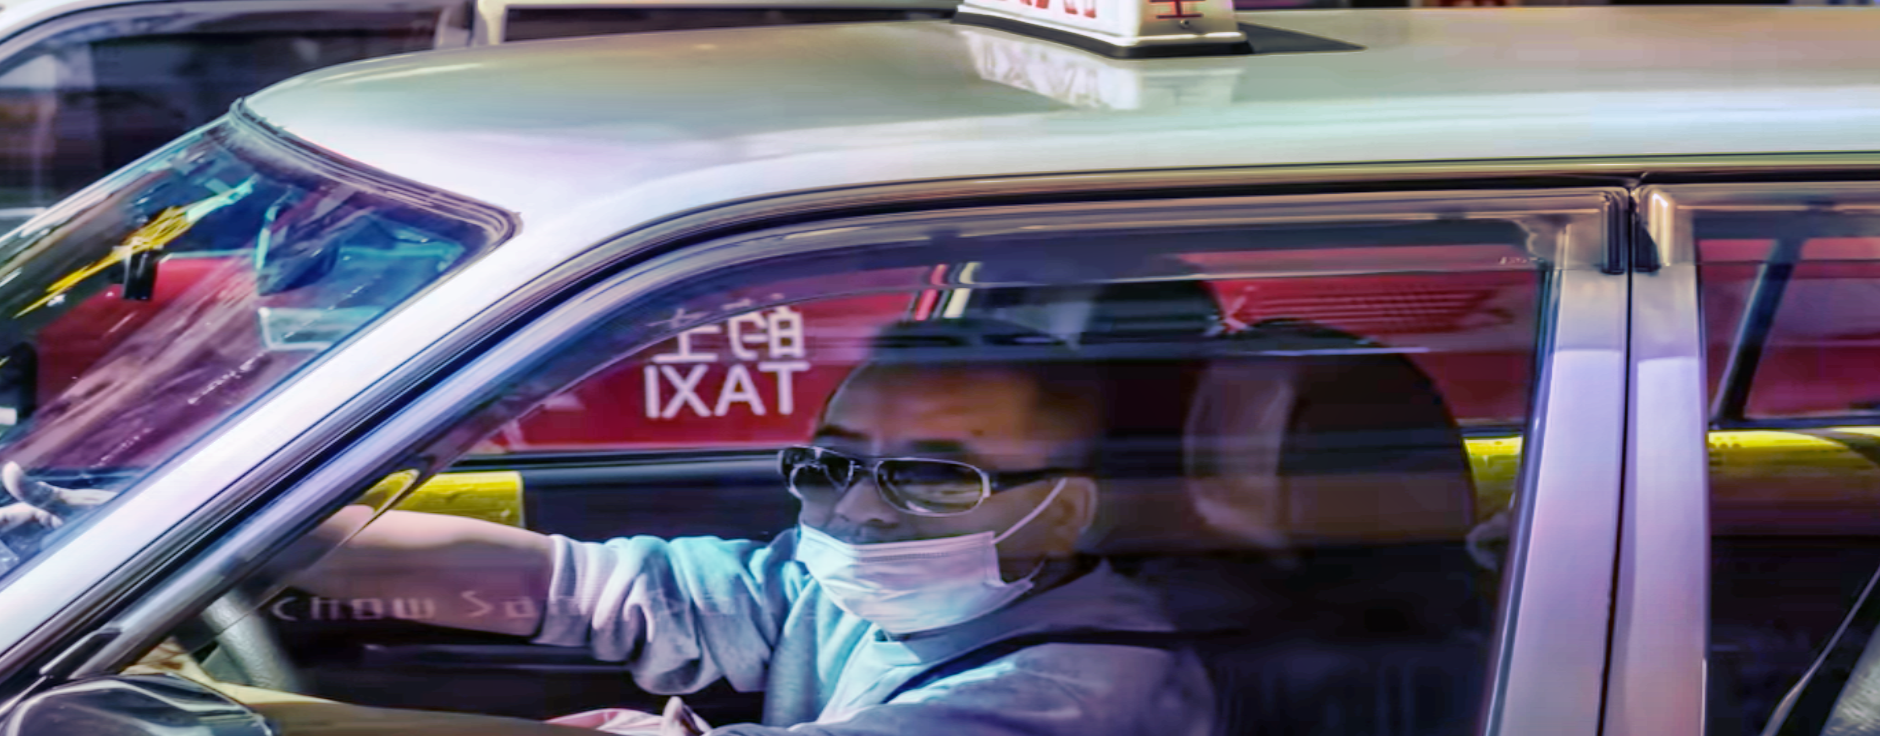mask_weared_incorrect: (784, 322, 1135, 639)
